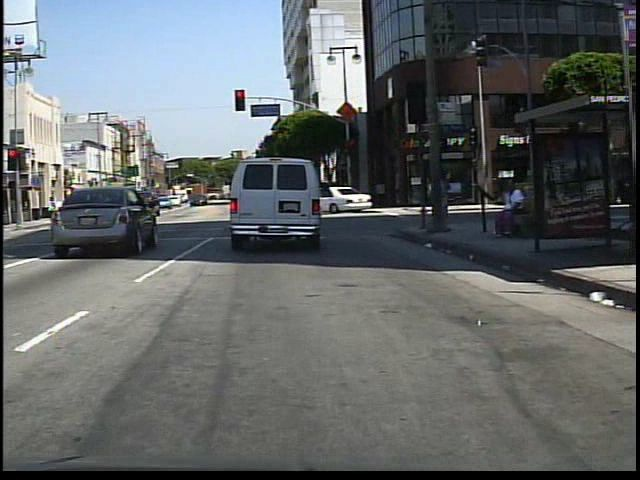person: (491, 177, 529, 240), (429, 166, 458, 236), (46, 194, 64, 227)
